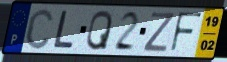2: (111, 11, 142, 51)
C: (24, 7, 56, 51)
F: (168, 11, 204, 55)
L: (51, 10, 75, 50)
Q: (85, 9, 114, 52)
Z: (141, 11, 176, 54)
